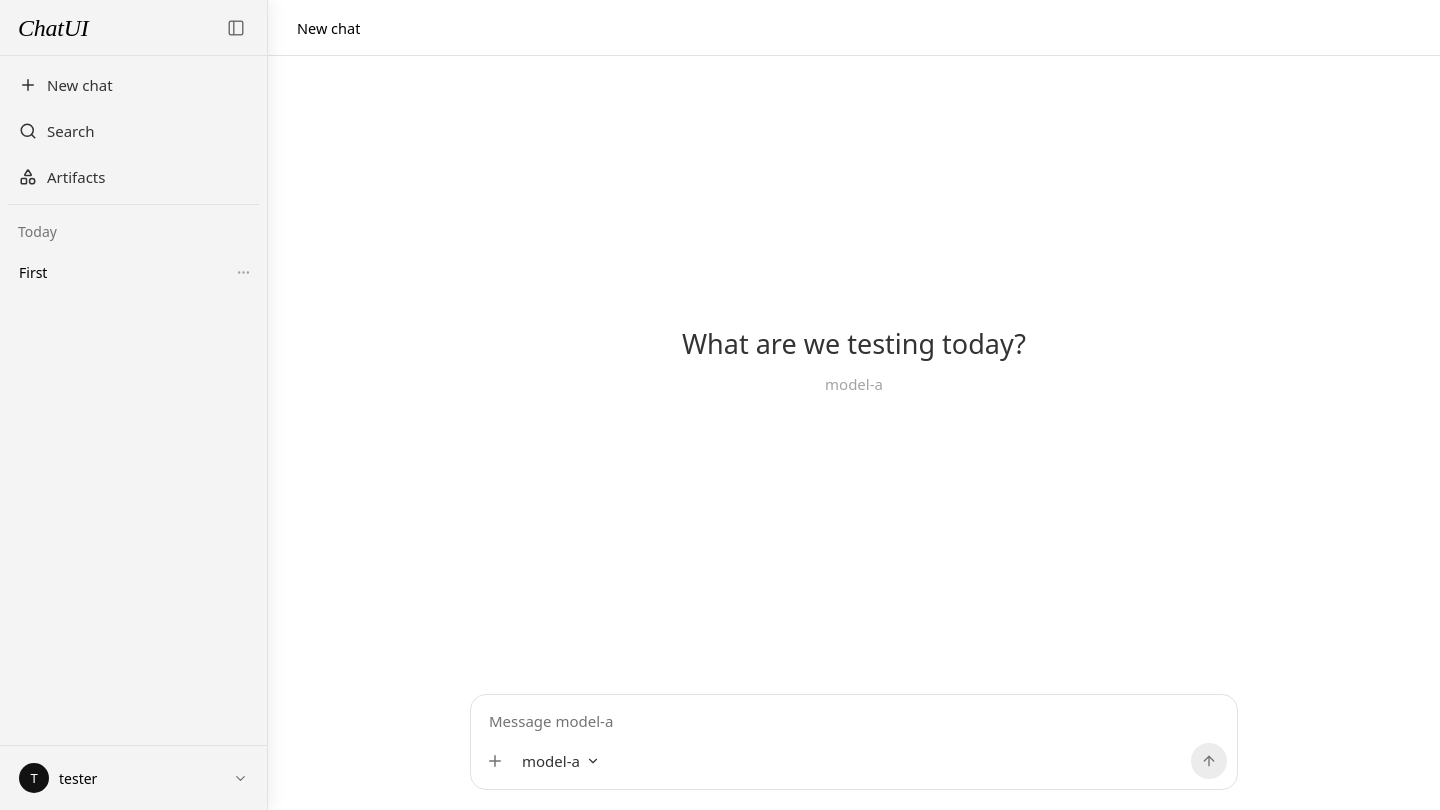
Test: search › says so when nothing matched, rather than looking like it is still working
expect the text box labelled "Message" is shown: met, box [481,705,1227,737]
Click the button "Search" at (134, 131), box [8,112,259,150]
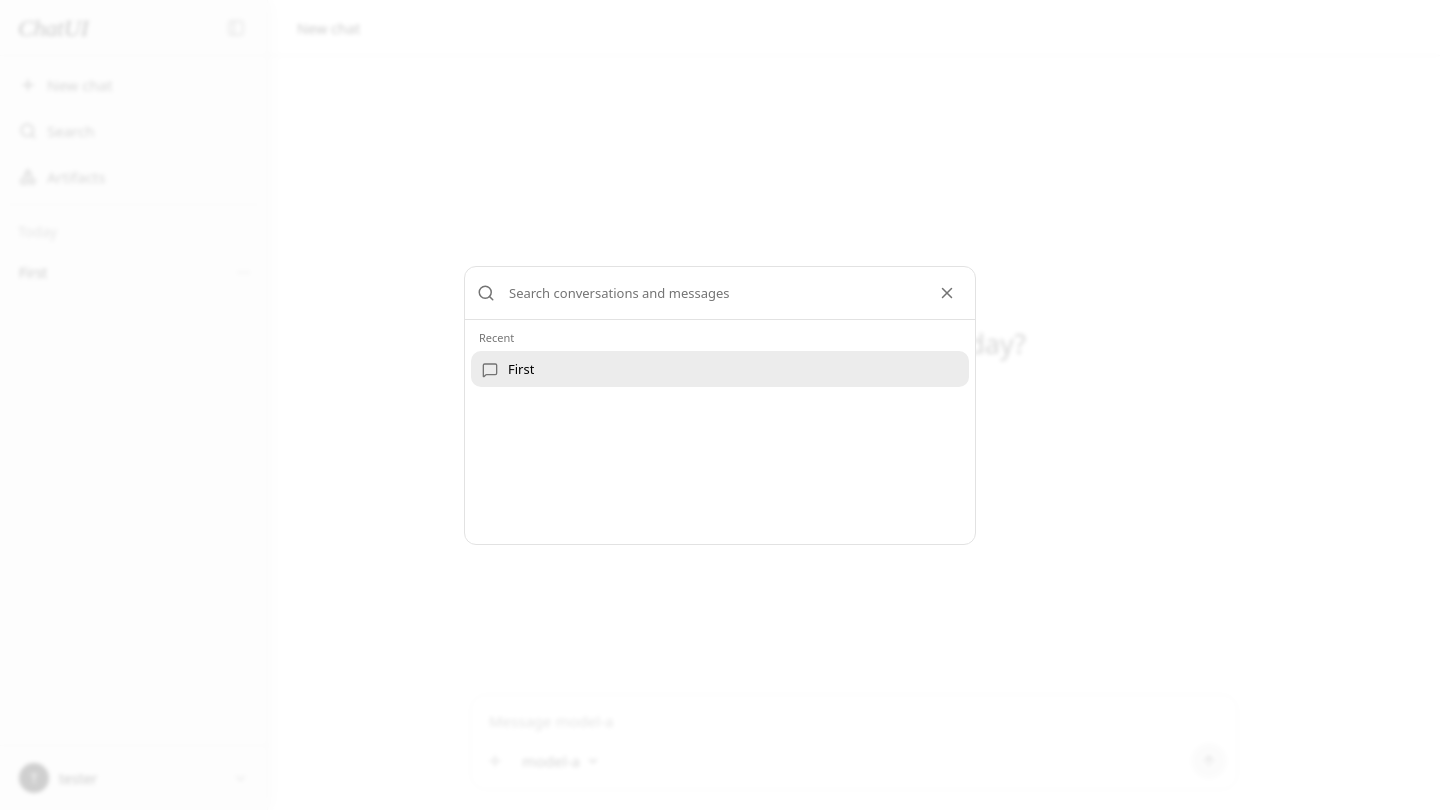
Type "risotto" into the field labelled "Search conversations and messages" at (713, 292), box [507,282,919,302]
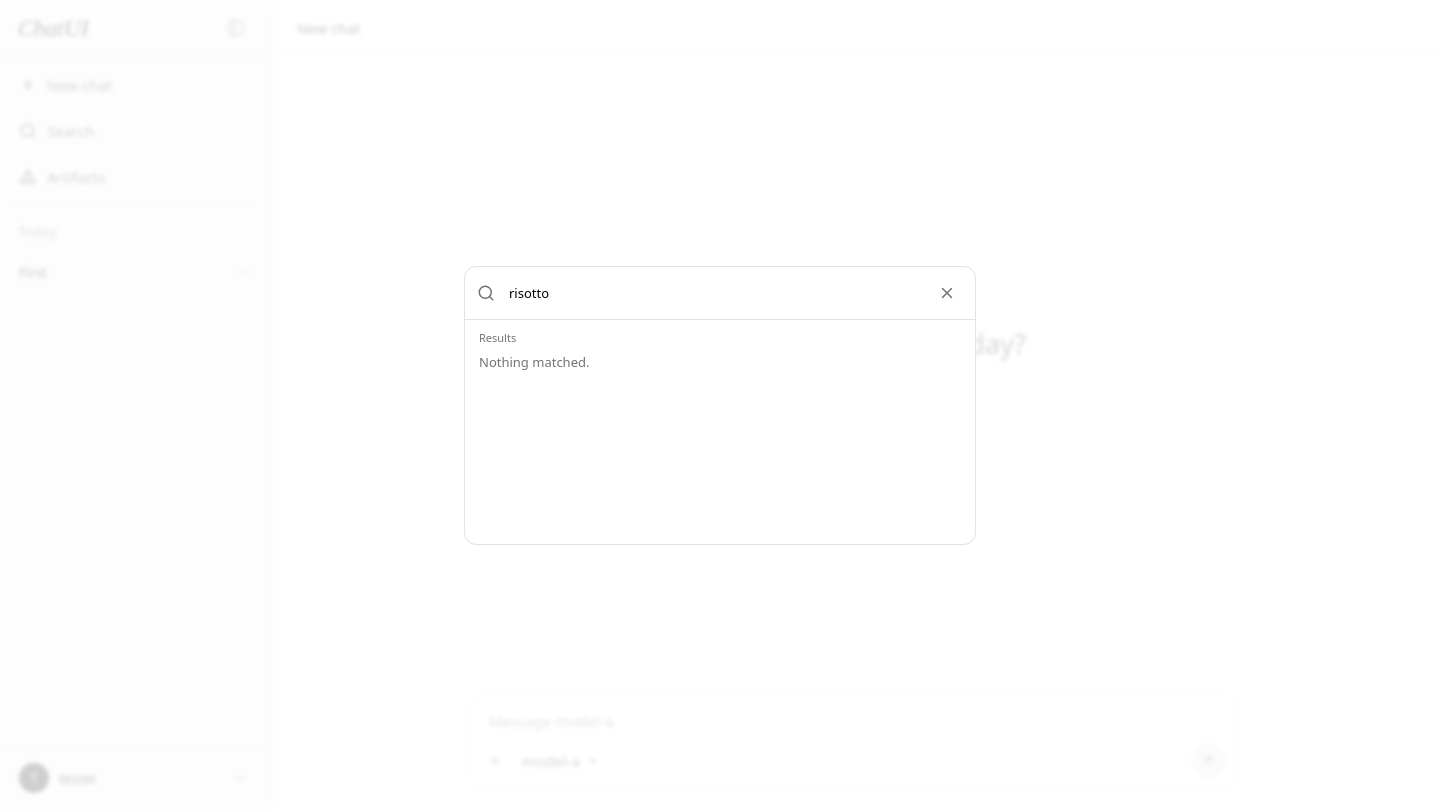
expect the text "Nothing matched." is shown: met, box [479,352,590,370]
